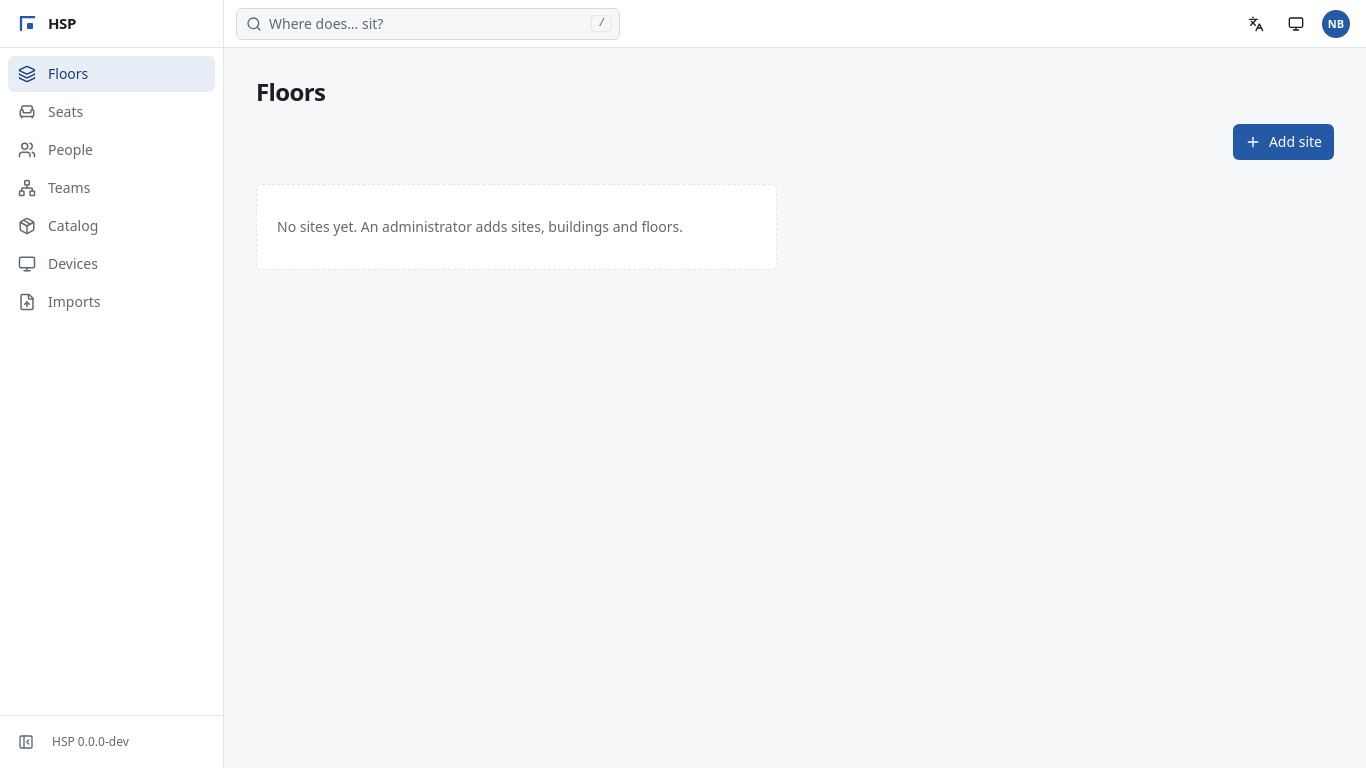
it: where does X sit? (docs/0085, docs/0087) › searching from the top bar lists the seat, its holder, team and place
Type "maya" into the search field named "Search seats, people and teams" at (428, 24), box [236,8,620,40]
Then press Enter
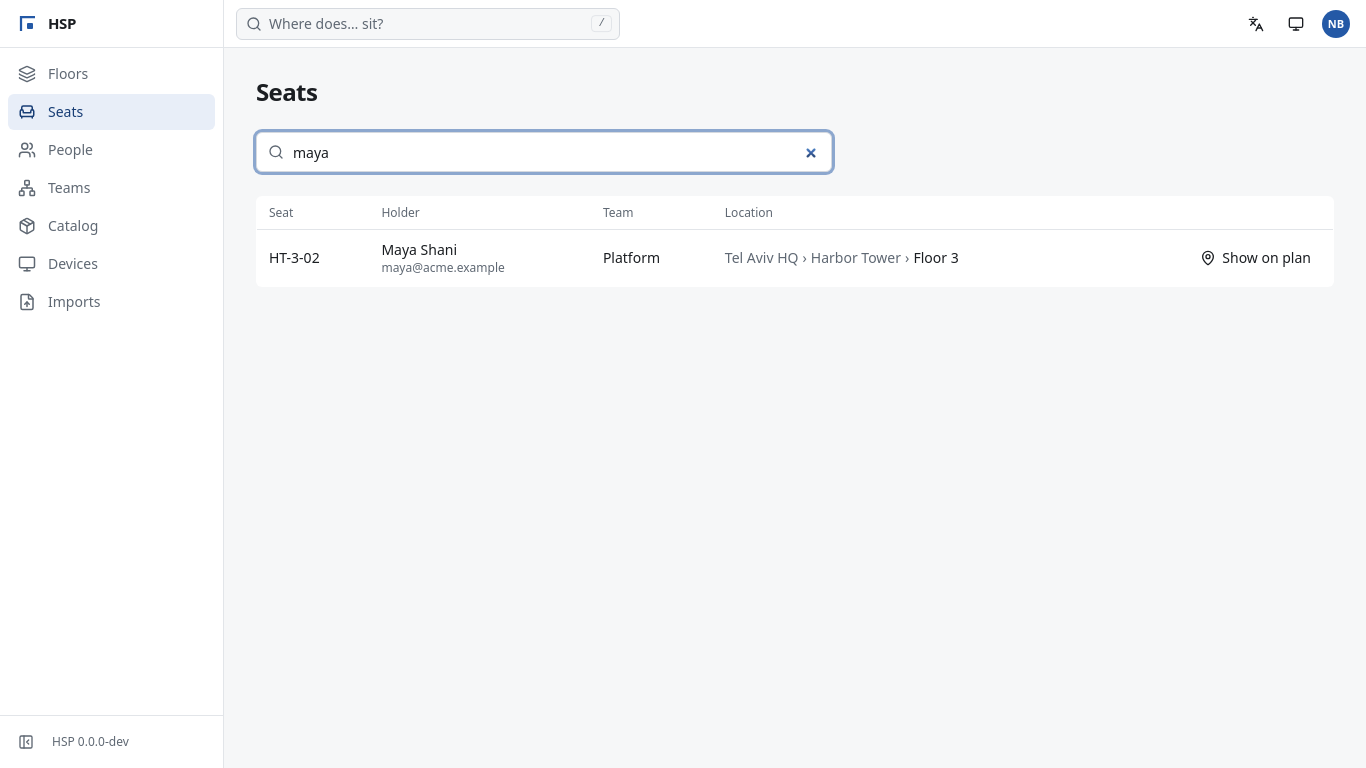
Now the row "HT-3-02" shows "Maya Shani", box [381,240,457,259]
Now the row "HT-3-02" shows "Platform", box [603,248,660,267]
Now the row "HT-3-02" shows "Tel Aviv HQ›Harbor Tower›Floor 3", box [256,230,1334,286]
